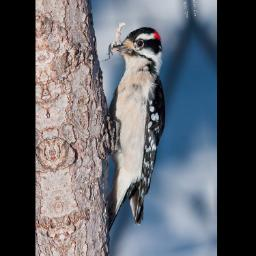Woodpecker: (89, 23, 182, 231)
